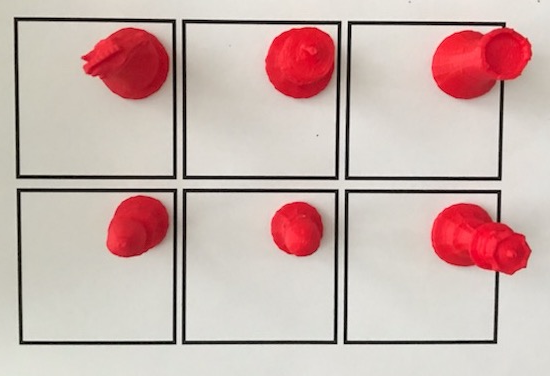Red Bishop: (100, 193, 173, 265)
Red Castle: (424, 24, 535, 117)
Red King: (261, 23, 340, 102)
Red Knight: (81, 25, 175, 106)
Red Pawn: (256, 195, 332, 261)
Red Queen: (428, 197, 537, 292)
